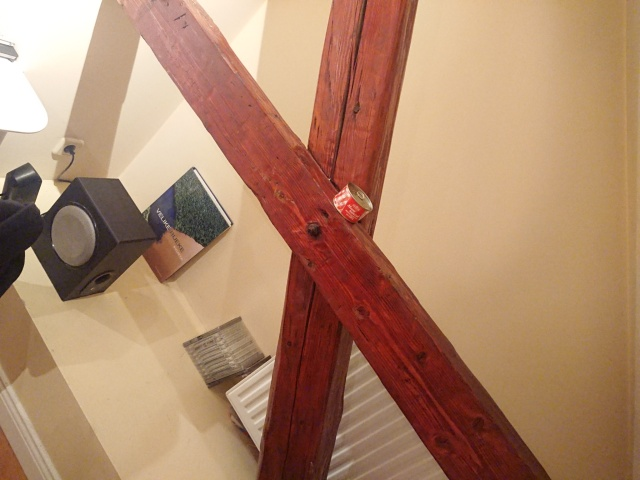Podravka Luncheon Meat 150g: (331, 180, 375, 225)
